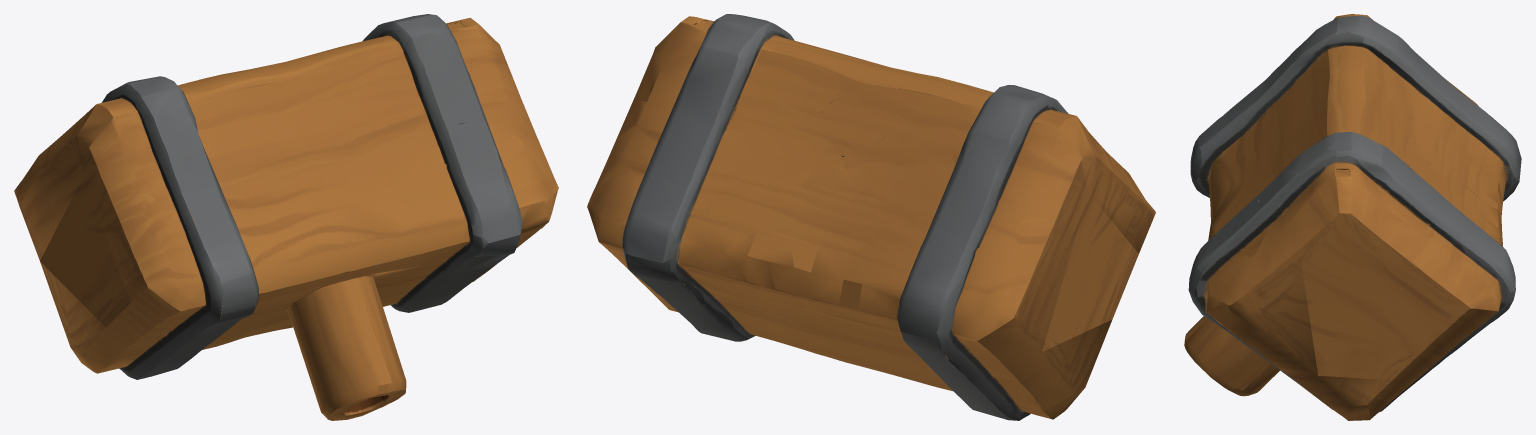
The model's file is PROP_C1_HAMMER_game.glb.
3 views of the same model, side by side, from view 1: azimuth 30°, elevation 25°; view 2: azimuth 150°, elevation 25°; view 3: azimuth 270°, elevation 25° (orthographic). The views are drawn at different scales.
Visible parts, largest first — view 1: PROP_C1_HAMMER; view 2: PROP_C1_HAMMER; view 3: PROP_C1_HAMMER.
Boxes of the visible parts, <box> form: PROP_C1_HAMMER: <box>14,14,558,420</box>; PROP_C1_HAMMER: <box>587,14,1155,420</box>; PROP_C1_HAMMER: <box>1184,14,1521,420</box>.
Bounding box in the file's own units: 1.1 × 0.85 × 0.8503.
1 material, 1 textured.
